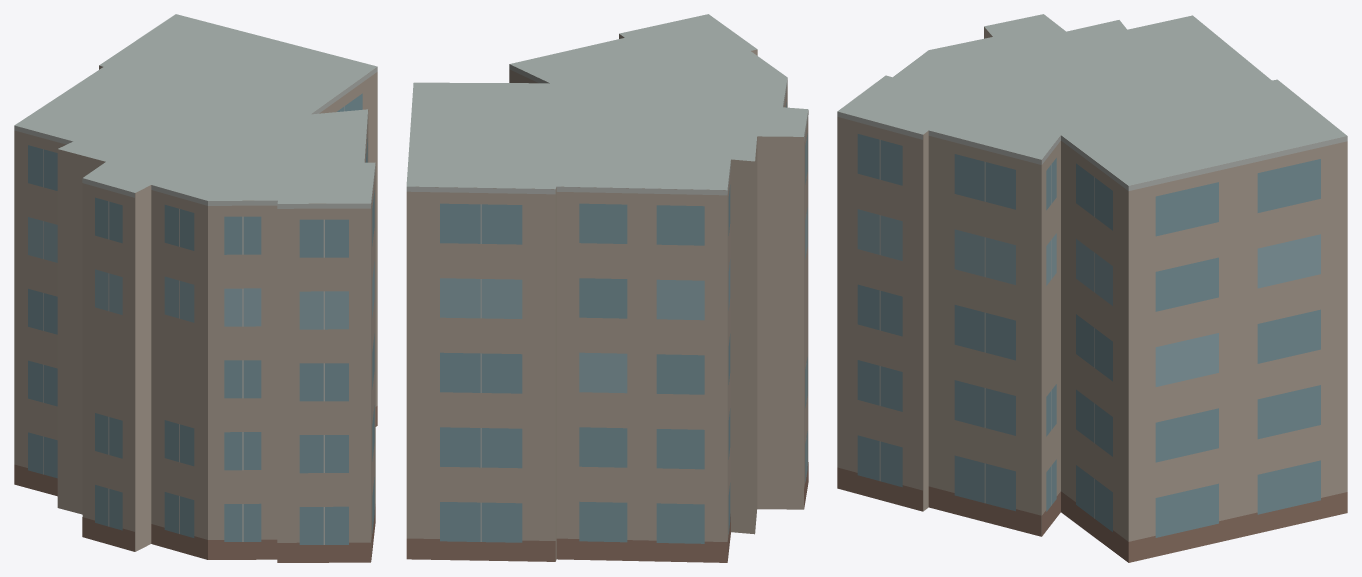
The model's file is survey-upis-32689844.glb.
3 renders of one model, left to right at view 1: azimuth 30°, elevation 25°; view 2: azimuth 150°, elevation 25°; view 3: azimuth 270°, elevation 25°, orthographic. The views are drawn at different scales.
Parts seen in each view (by area): view 1: survey-upis-32689844.tmp; view 2: survey-upis-32689844.tmp; view 3: survey-upis-32689844.tmp.
Boxes of the visible parts, x1,y1,x2,y2 form: survey-upis-32689844.tmp: (14, 14, 377, 562); survey-upis-32689844.tmp: (406, 14, 808, 562); survey-upis-32689844.tmp: (837, 14, 1347, 562).
Size of the model in its own units: 17.23 by 17.6 by 21.61.
